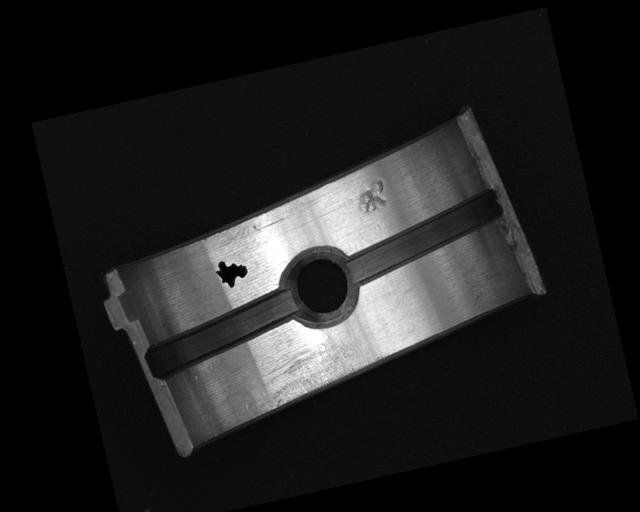blot: (211, 255, 251, 291)
bruise: (351, 177, 390, 215)
gap: (336, 187, 511, 289), (137, 287, 308, 381)
hole: (276, 244, 365, 334)
scratch: (232, 325, 389, 421)
